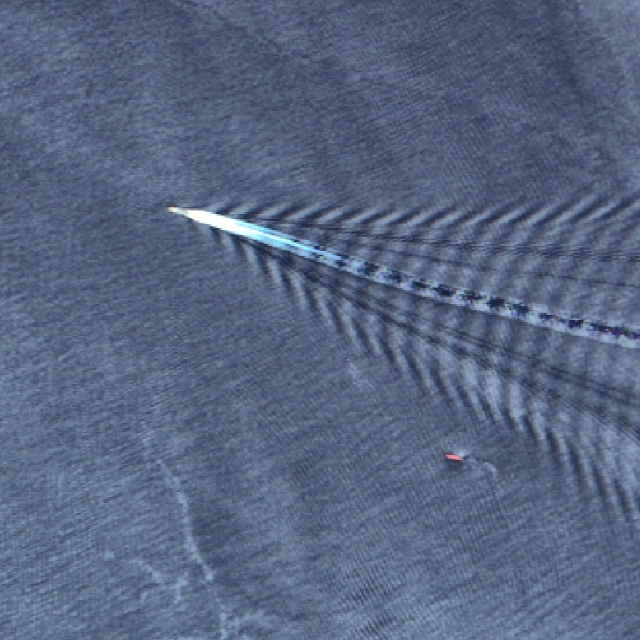wake: (131, 99, 632, 450)
